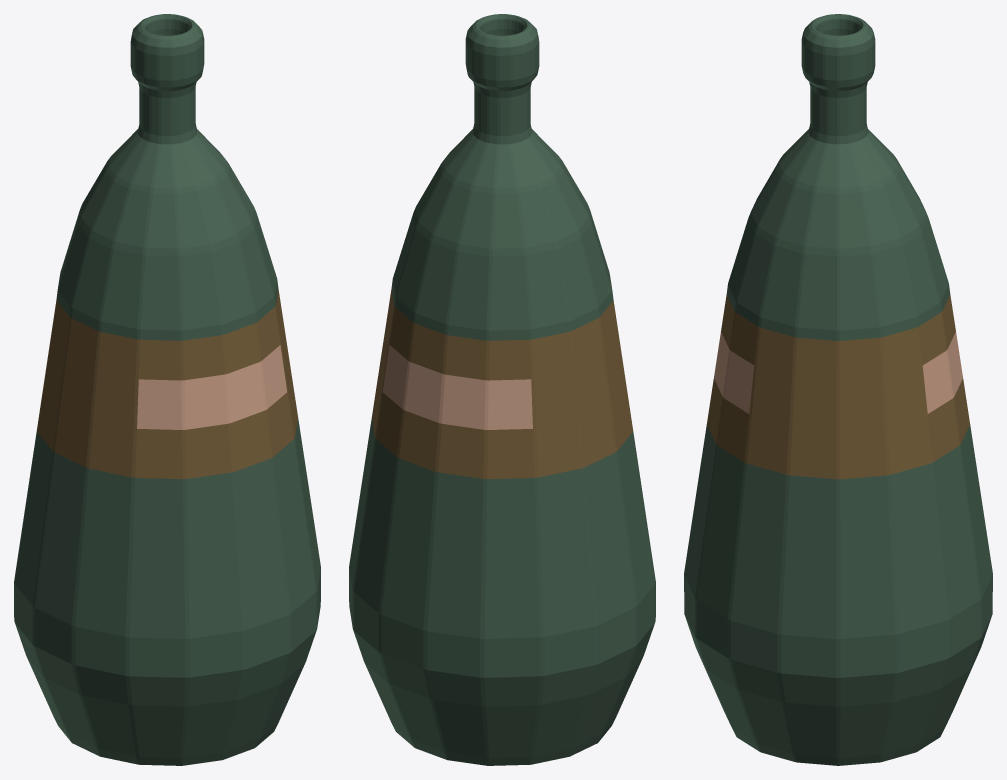
Rendered from alcohol_bottle_3_partyassetst.fbx.
3 views of the same model, side by side, from view 1: azimuth 30°, elevation 25°; view 2: azimuth 150°, elevation 25°; view 3: azimuth 270°, elevation 25° (orthographic).
Parts seen in each view (by area): view 1: alcohol_bottle_3_partyassetst; view 2: alcohol_bottle_3_partyassetst; view 3: alcohol_bottle_3_partyassetst.
Boxes of the visible parts, x1,y1,x2,y2 form: alcohol_bottle_3_partyassetst: (14, 14, 320, 765); alcohol_bottle_3_partyassetst: (349, 14, 655, 765); alcohol_bottle_3_partyassetst: (684, 14, 992, 765).
Size of the model in its own units: 11.21 by 27.82 by 11.21.
